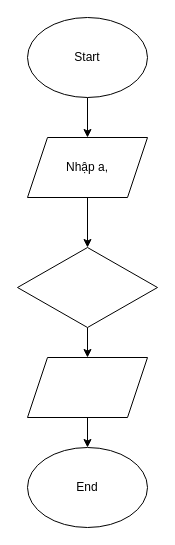
The diagram is 175 pixels wide and 545 high, and some of its shapes have lost their labels. The centre of each missing label's shape, as x and y in pixels:
Kết quả a + b: (87,387)
Tính a + b = ?: (87,287)
